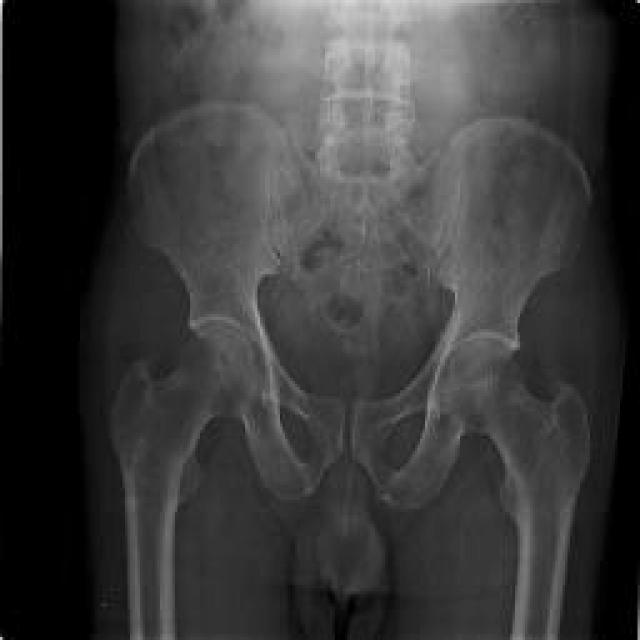normal: (112, 5, 590, 638)
